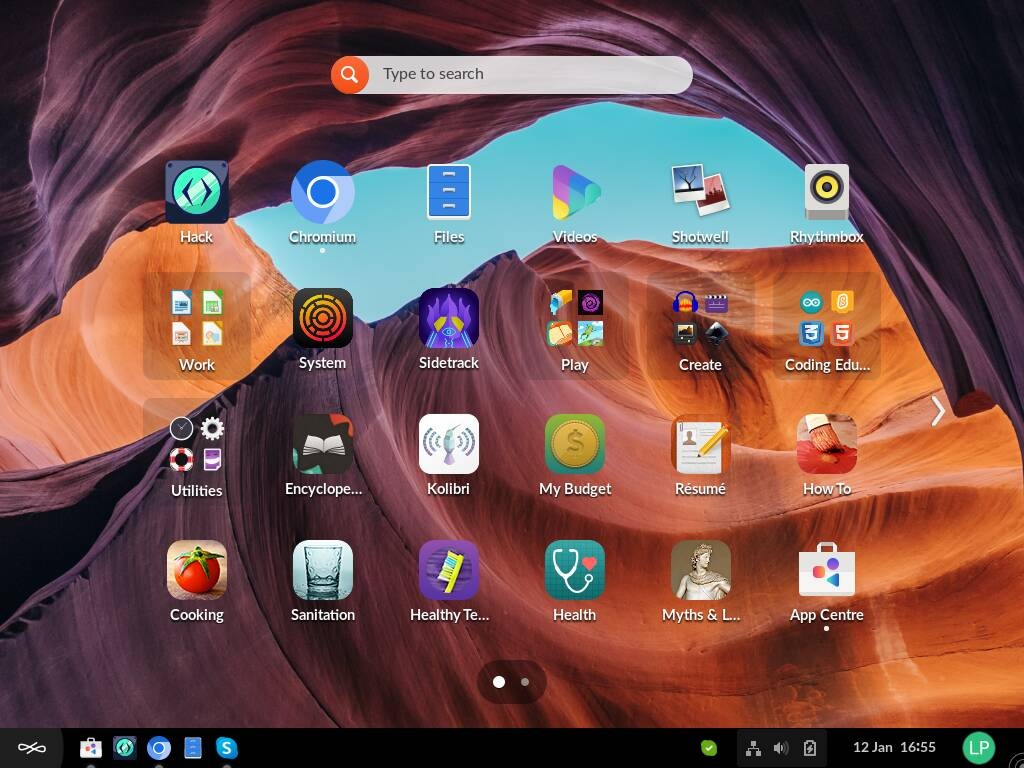search_box: (332, 54, 693, 93)
